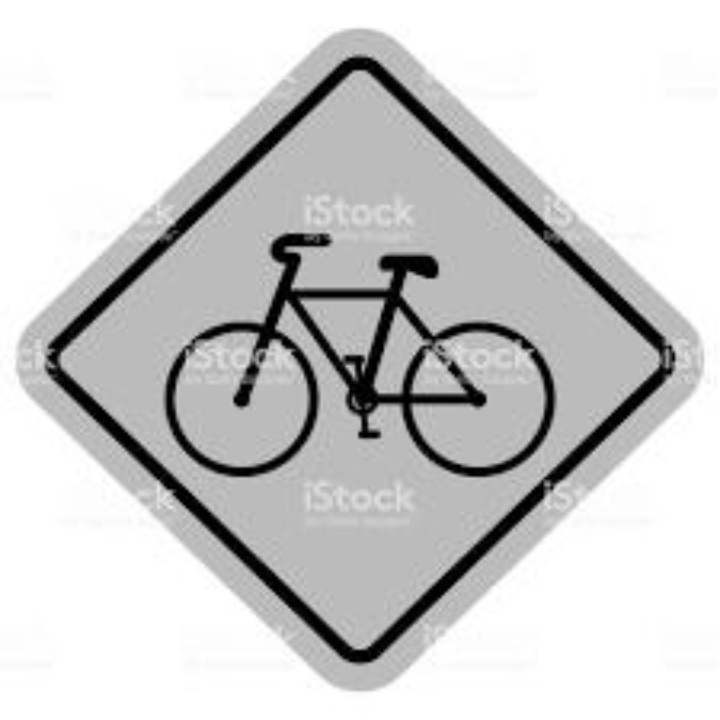bicycle: (153, 198, 588, 516)
